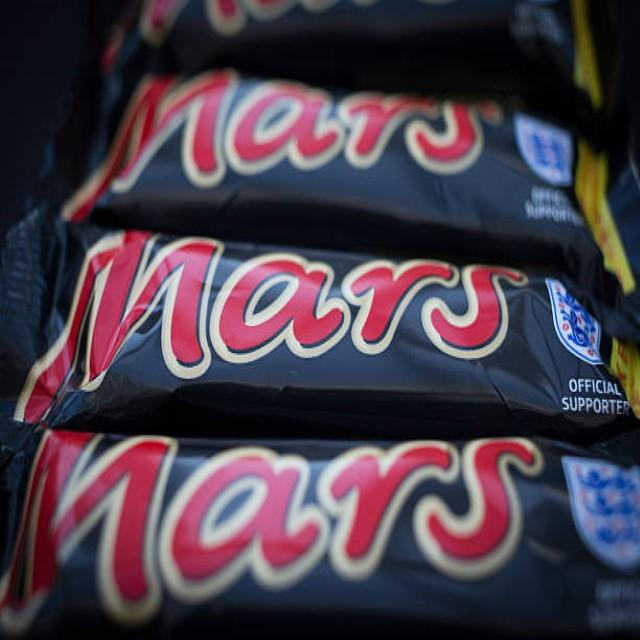mars_chocolate: (16, 423, 640, 634), (47, 206, 613, 436), (116, 42, 632, 258)
